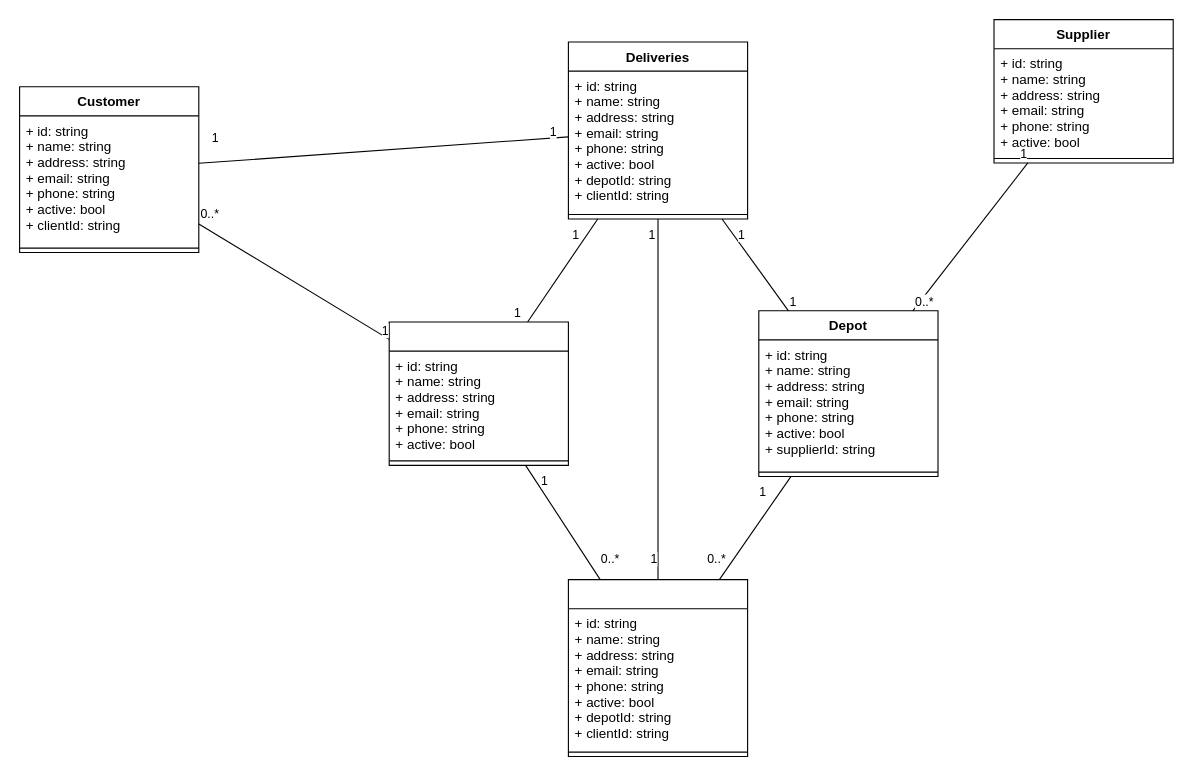
This 1193x776 diagram has some shape labels left out. Here are the shapes that lost their labels. From the top down, the box of each, then its label:
(388, 321, 568, 465): Client
(567, 578, 748, 757): Product
